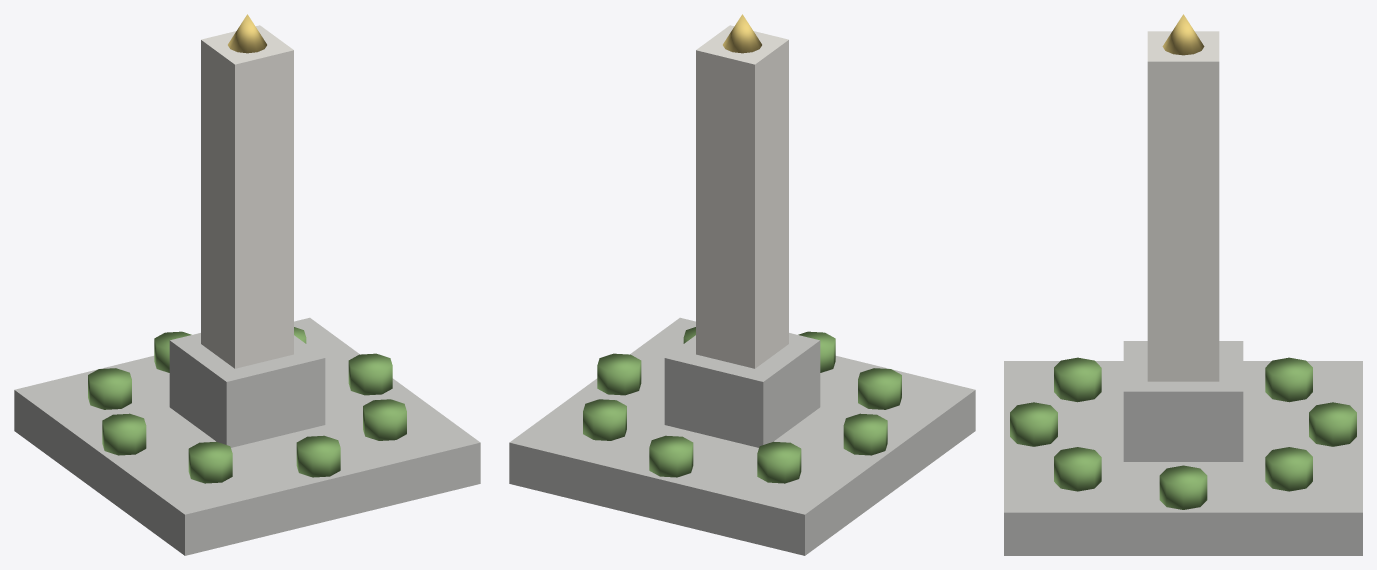
File: monument.glb
3 renders of one model, left to right at view 1: azimuth 30°, elevation 25°; view 2: azimuth 150°, elevation 25°; view 3: azimuth 270°, elevation 25°, orthographic. The views are drawn at different scales.
Parts seen in each view (by area): view 1: monument; view 2: monument; view 3: monument.
Boxes of the visible parts, x1,y1,x2,y2 form: monument: (14, 14, 480, 555); monument: (509, 14, 975, 555); monument: (1004, 14, 1362, 555).
Size of what is drawn, in the model's own units: 6 by 8.6 by 6.
